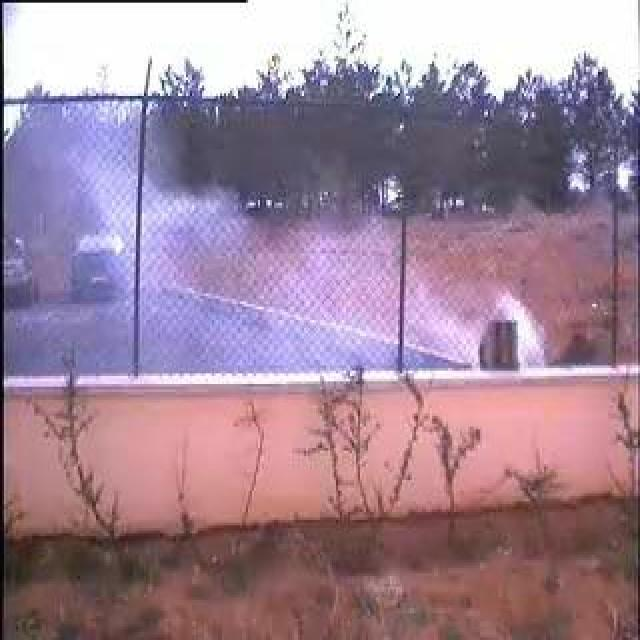Smoke: (211, 200, 549, 368)
